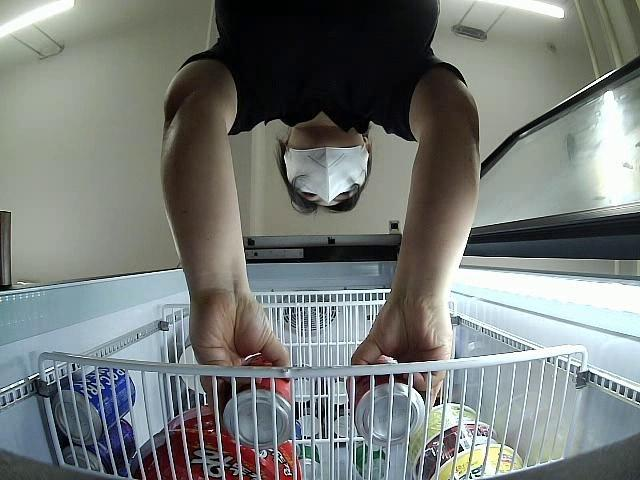11_cocaColaZero: (346, 352, 424, 448), (222, 352, 294, 448)
